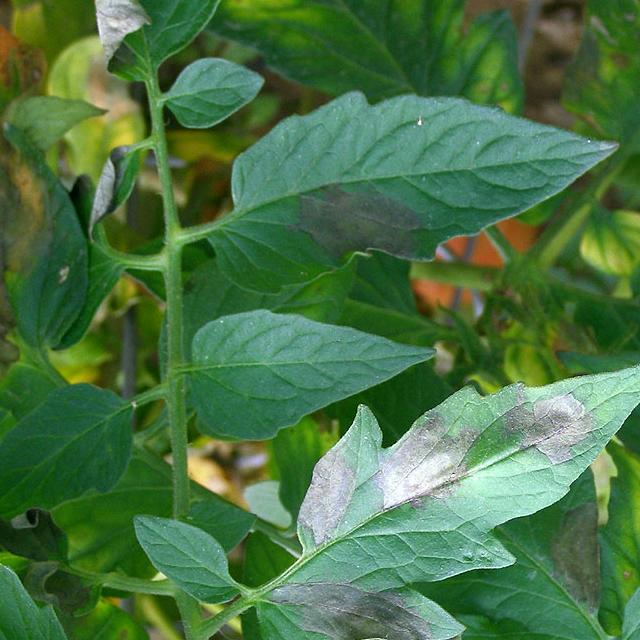Tomato leaf late blight: (238, 367, 640, 640), (194, 86, 630, 275), (0, 416, 114, 640), (0, 133, 91, 377), (595, 363, 640, 607)
